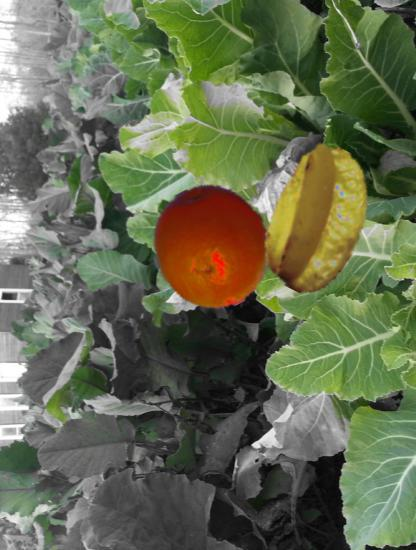Carambula: (245, 146, 394, 295)
Tangelo: (149, 184, 276, 311)
